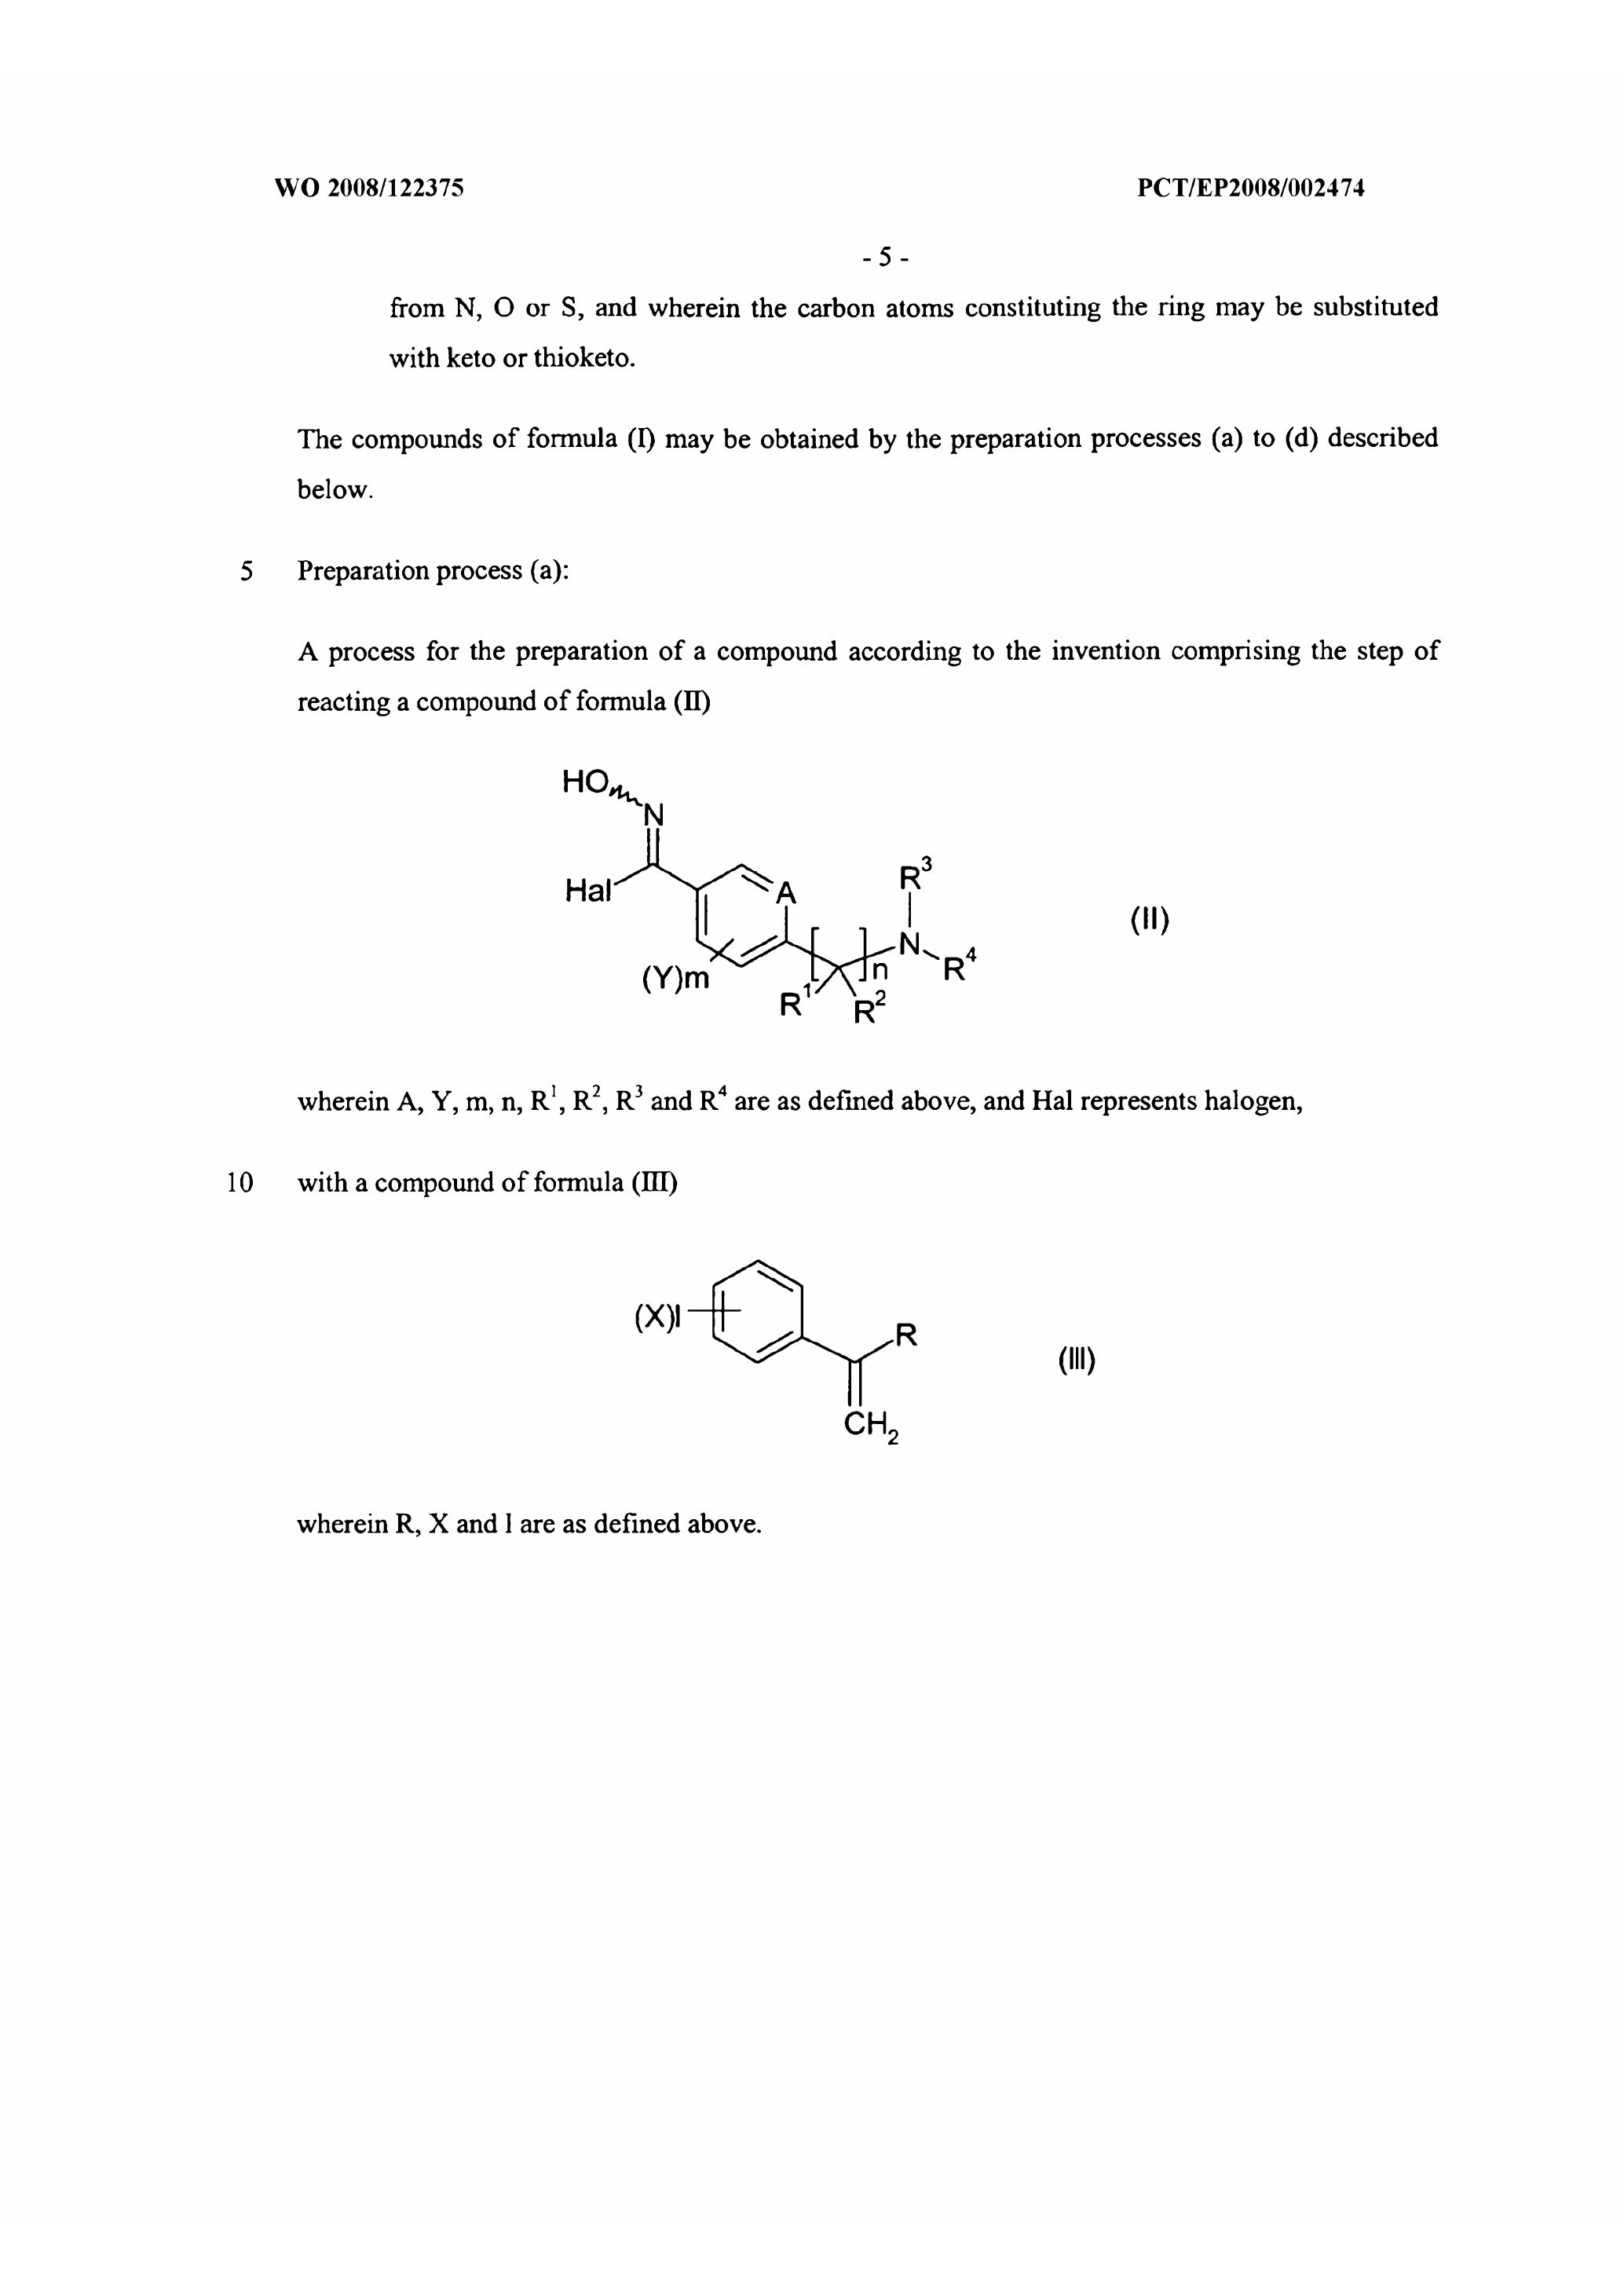reactions: (278, 543, 1506, 1477)
